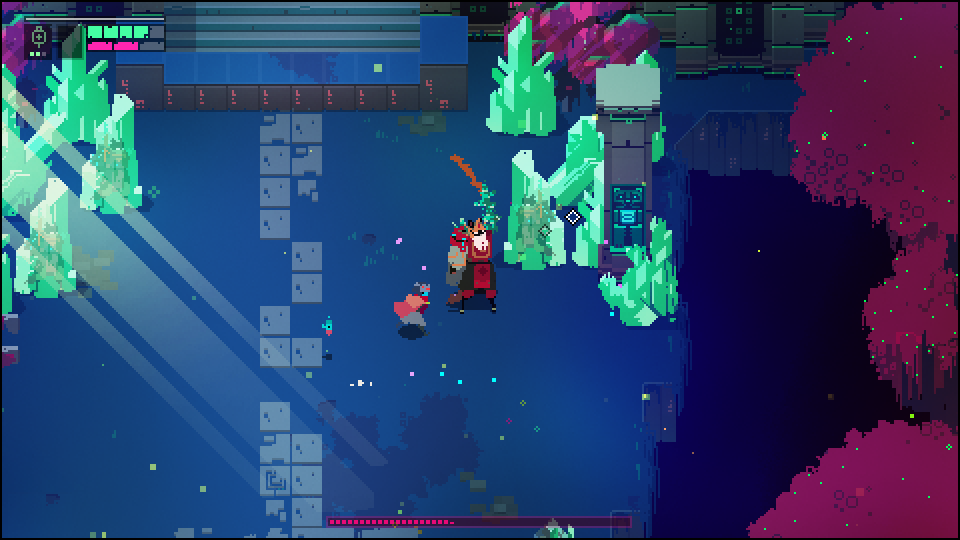hanged_man: (442, 179, 509, 320)
player: (393, 278, 432, 336)
